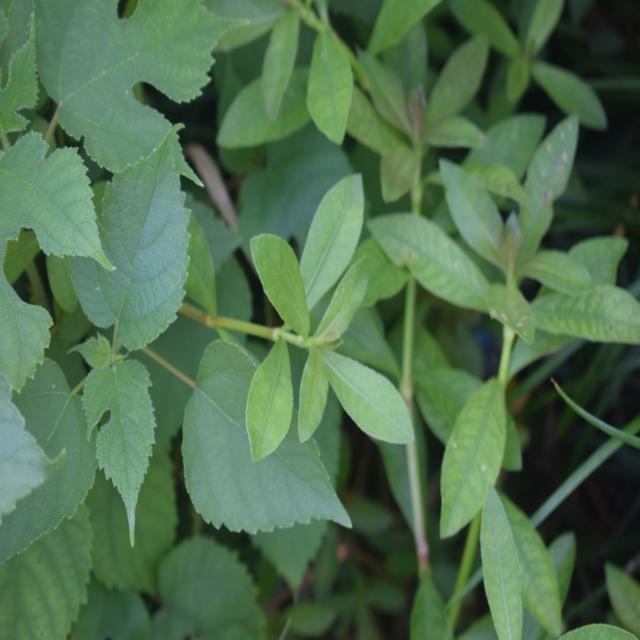Alligatorweed: (224, 172, 433, 490)
